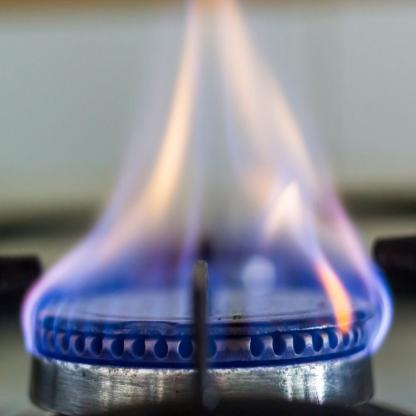fire: (16, 0, 397, 386)
